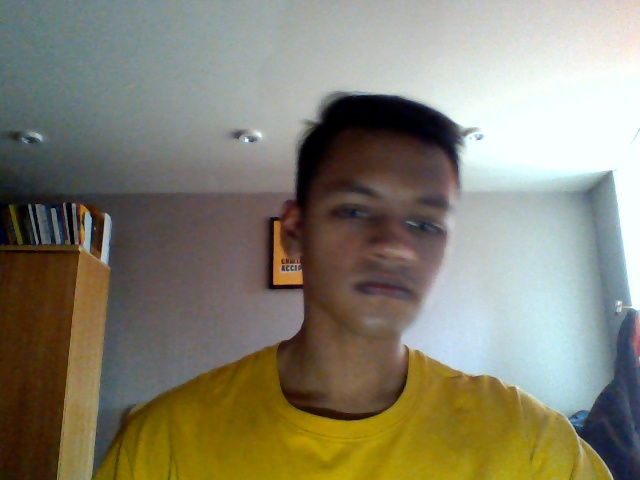no_mask: (294, 228, 441, 333)
